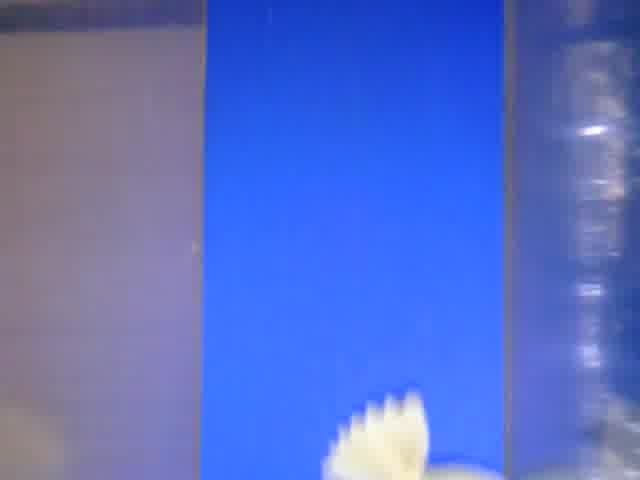farfalle: (319, 387, 483, 480)
